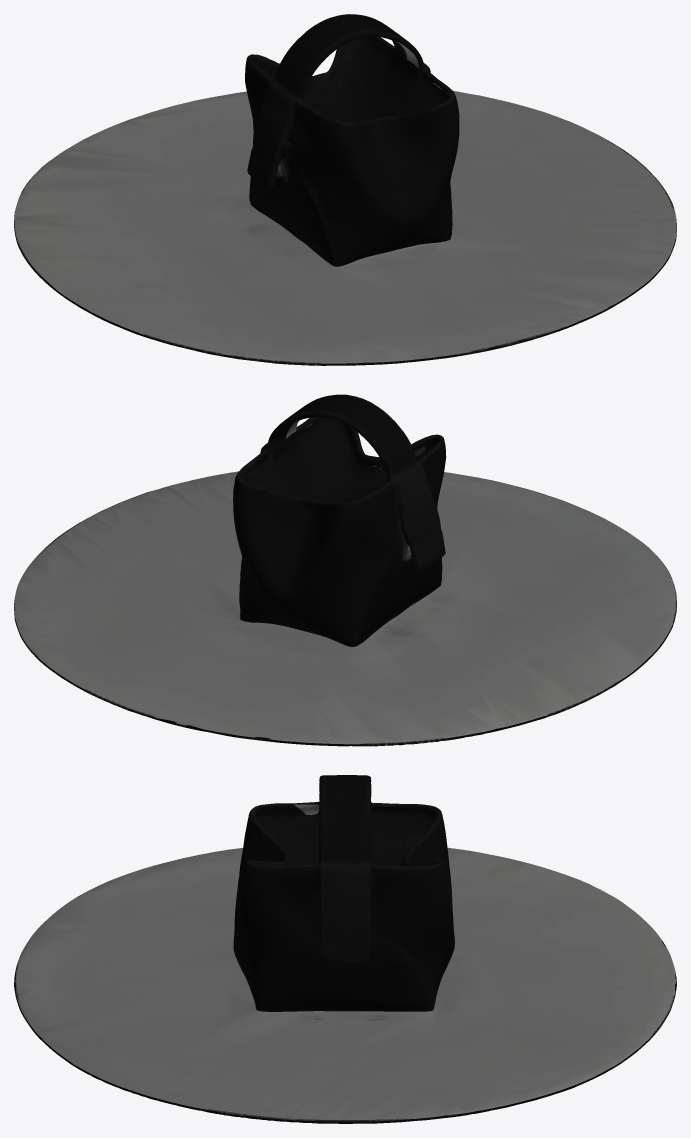
Rendered from acessorios-opt.glb.
3 renders of one model, top to bottom at view 1: azimuth 30°, elevation 25°; view 2: azimuth 150°, elevation 25°; view 3: azimuth 270°, elevation 25°, orthographic.
Parts seen in each view (by area): view 1: textured_mesh; view 2: textured_mesh; view 3: textured_mesh.
Boxes of the visible parts, x1,y1,x2,y2 form: textured_mesh: (14, 14, 676, 365); textured_mesh: (14, 394, 676, 746); textured_mesh: (14, 775, 676, 1123).
Size of the model in its own units: 1.99 by 0.6784 by 1.99.
Materials: 1 (1 with a texture image).
